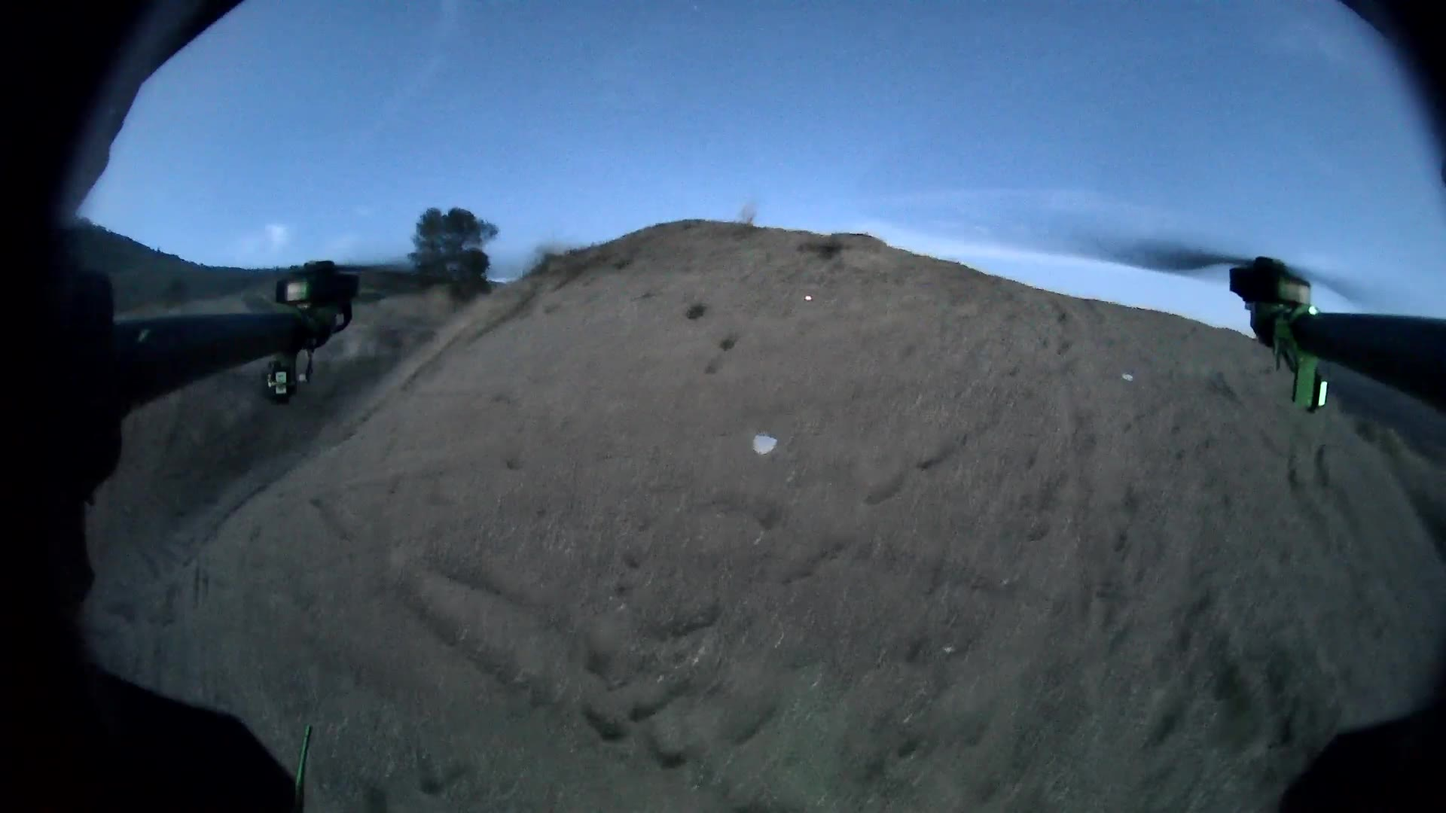Target: (753, 433, 777, 454)
